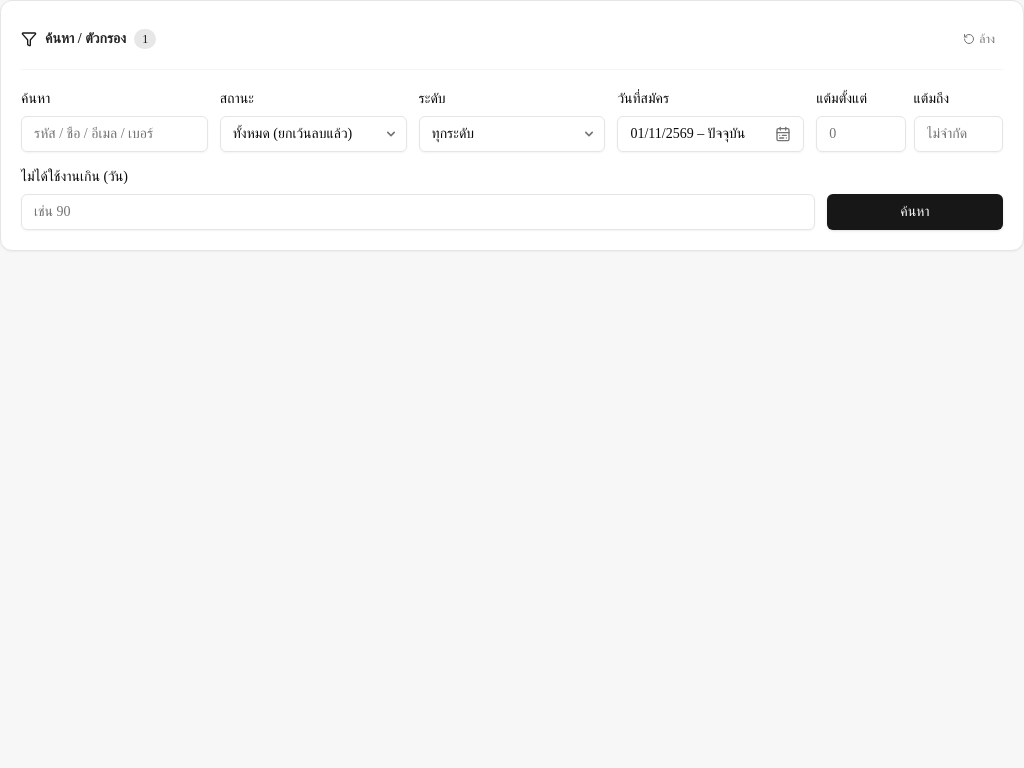
Test: MemberSearchPanel › filters by a registration date range picked on the calendar
This screenshot has width=1024, height=768.
Later steps or results of the test are not shown.
Step 1. Click the button named "วันที่สมัคร" → (711, 134), box x1=617 y1=116 x2=804 y2=152
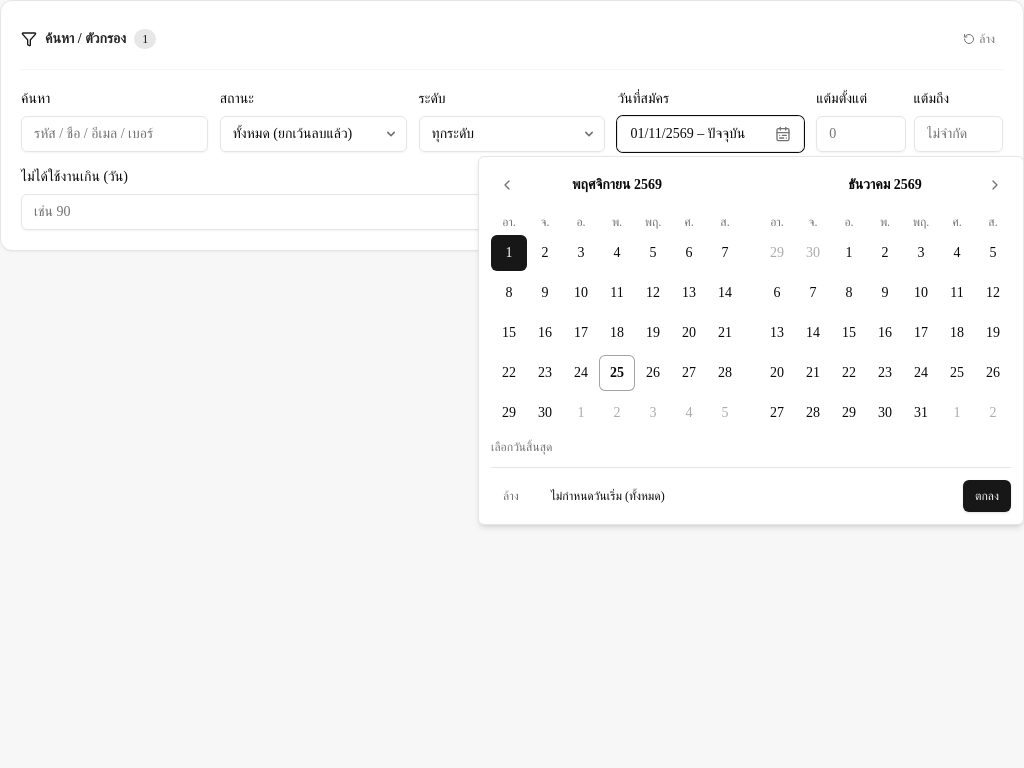
Step 2. Click the button named "15 พฤศจิกายน 2569" → (509, 333), box x1=491 y1=315 x2=527 y2=351
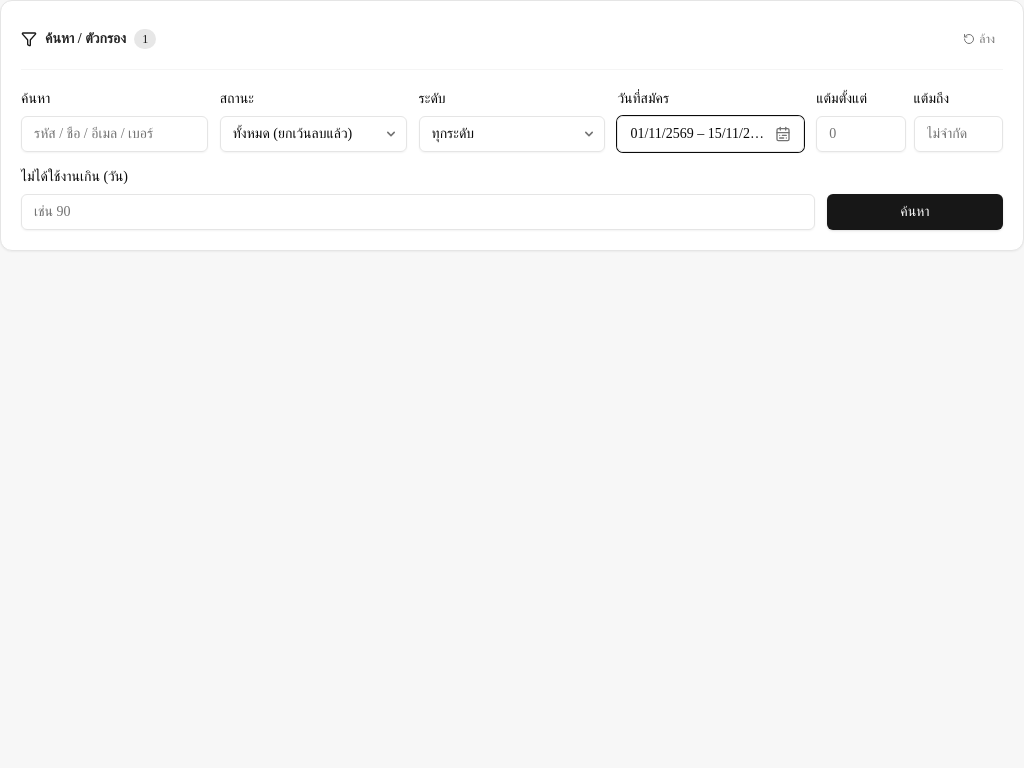
Expected: the button named "วันที่สมัคร" reads "01/11/2569 – 15/11/2569", x1=617 y1=116 x2=804 y2=152
